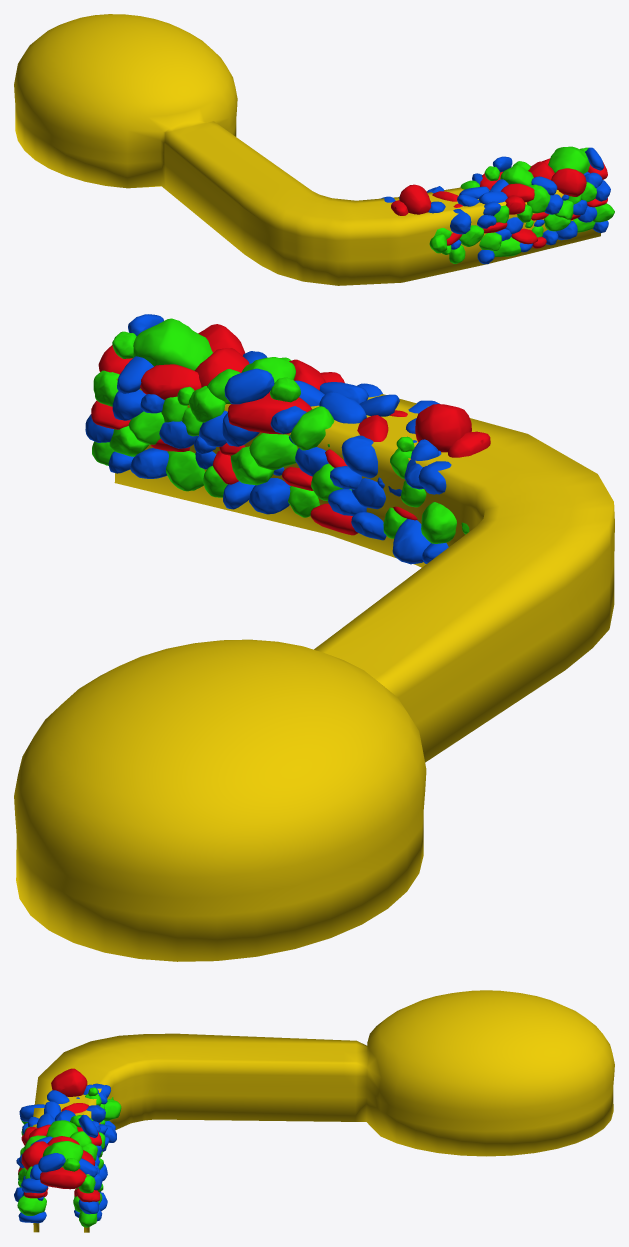
The model's file is luolakivilla.fbx.
3 views of the same model, one above another, from view 1: azimuth 30°, elevation 25°; view 2: azimuth 150°, elevation 25°; view 3: azimuth 270°, elevation 25° (orthographic). The views are drawn at different scales.
Parts seen in each view (by area): view 1: putki; view 2: putki; view 3: putki.
Boxes of the visible parts, x1,y1,x2,y2 form: putki: (14, 14, 614, 285); putki: (14, 314, 614, 961); putki: (14, 990, 614, 1232).
Size of the model in its own units: 42.43 by 11.77 by 60.42.
